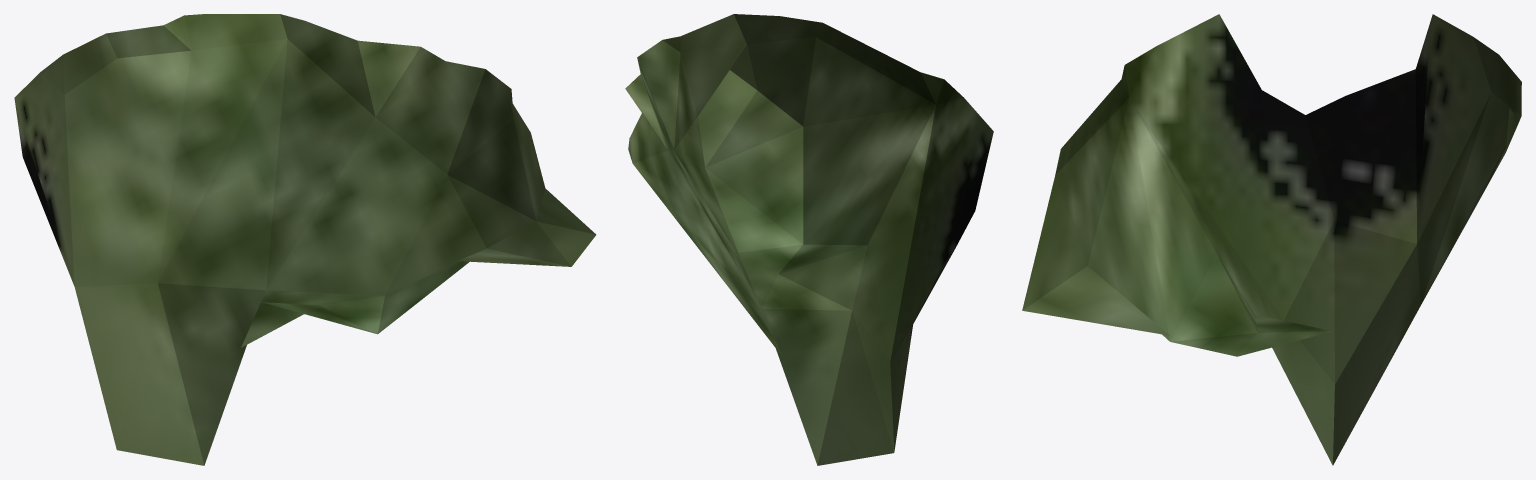
The picture shows the model from 3 angles, left to right: view 1: azimuth 30°, elevation 25°; view 2: azimuth 150°, elevation 25°; view 3: azimuth 270°, elevation 25°; orthographic projection. The views are drawn at different scales.
Bounding box in the file's own units: 0.869 × 0.7856 × 0.9354.
1 material, 1 textured.
